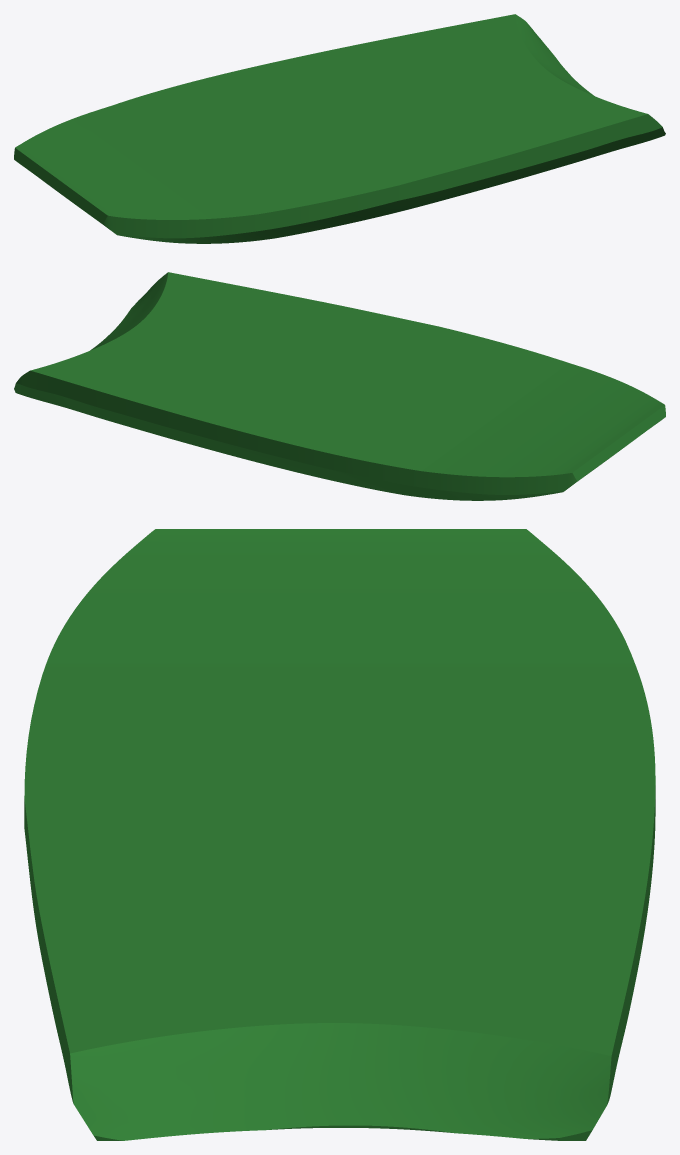
3 views of the same model, one above another, from view 1: azimuth 30°, elevation 25°; view 2: azimuth 150°, elevation 25°; view 3: azimuth 270°, elevation 25° (orthographic). The views are drawn at different scales.
Parts seen in each view (by area): view 1: Object_1_Material_2_0; view 2: Object_1_Material_2_0; view 3: Object_1_Material_2_0.
Boxes of the visible parts, <box> form: Object_1_Material_2_0: <box>14,14,665,243</box>; Object_1_Material_2_0: <box>14,272,665,500</box>; Object_1_Material_2_0: <box>24,529,655,1140</box>.
Size of the model in its own units: 1.01 by 0.0738 by 0.5084.
